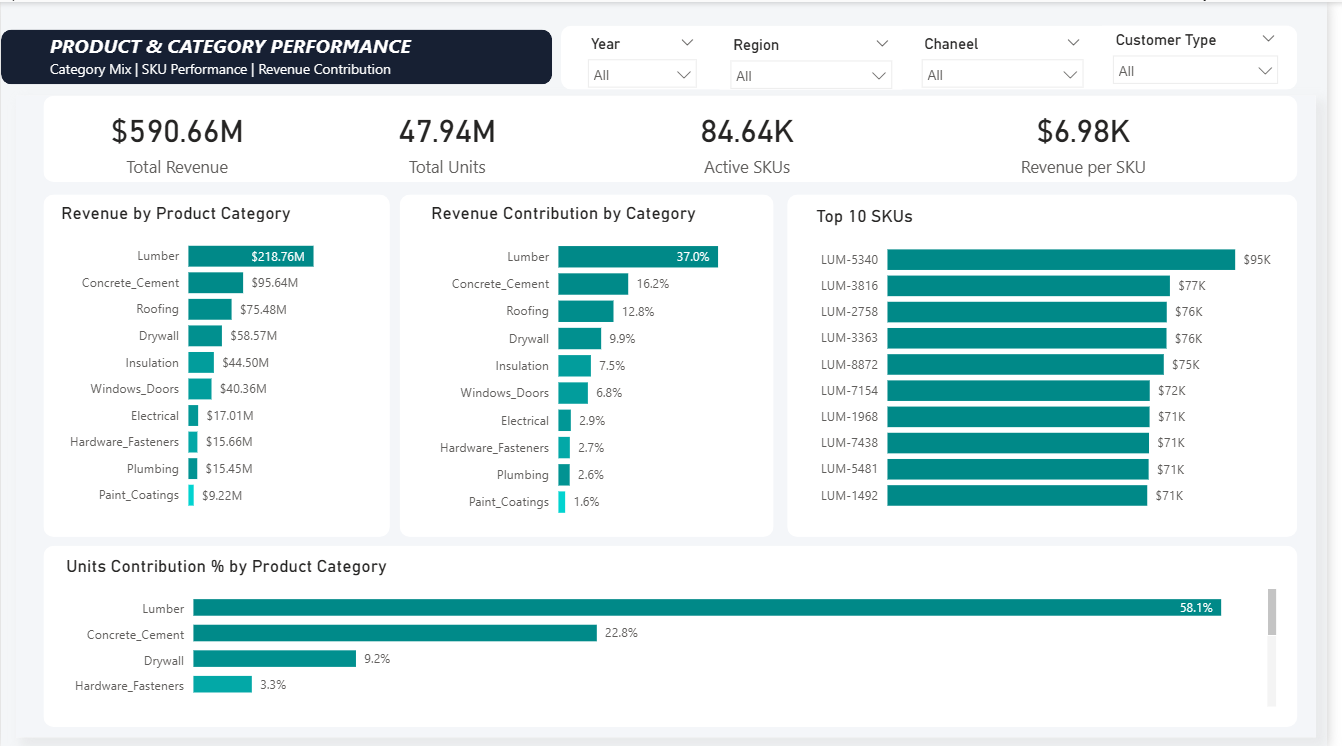

This screenshot's page, from the dashboard's own definition file:
{"tool":"powerbi","page":{"name":"PRODUCT & CATEGORY PERFORMANCE","canvas":[1280,720],"ordinal":2},"visuals":[{"type":"shape","box":[0,26.5,532,53.1],"z":0},{"type":"shape","box":[14.5,90.5,1254.7,618.9],"z":1000},{"type":"shape","box":[41,524.8,1210.1,174.9],"z":2000},{"type":"shape","box":[384.9,185.8,360.7,330.6],"z":3000},{"type":"shape","box":[41,90.5,1210.1,83.2],"z":4000},{"type":"shape","box":[758.9,185.8,492.2,330.6],"z":5000},{"type":"shape","box":[41,185.8,334.2,330.6],"z":6000},{"type":"textbox","box":[42.2,22.9,477.8,60.3],"z":7000},{"type":"barChart","title":"Revenue by Product Category","fields":{"Category":["DimProduct.Product Category"],"Y":["_Measures.Total Revenue"]},"box":[53.1,193,310.1,308.8],"z":8000},{"type":"card","fields":{"Values":["_Measures.Total Revenue"]},"box":[68.8,94.1,202.7,79.6],"z":9000},{"type":"card","fields":{"Values":["_Measures.Active SKUs"]},"box":[618.9,94.1,202.7,79.6],"z":10000},{"type":"card","fields":{"Values":["_Measures.Total Units"]},"box":[329.4,94.1,202.7,79.6],"z":11000},{"type":"card","fields":{"Values":["_Measures.Revenue per SKU"]},"box":[943.4,94.1,202.7,79.6],"z":12000},{"type":"clusteredBarChart","title":"Revenue Contribution by Category","fields":{"Category":["DimProduct.Product Category"],"Y":["_Measures.Revenue Contribution %"]},"box":[410.2,193,322.1,316.1],"z":13000},{"type":"barChart","fields":{"Category":["DimProduct.Product Category"],"Y":["_Measures.Units Contribution %"]},"box":[57.9,534.5,1177.5,150.8],"z":14000},{"type":"barChart","title":"Top 10 SKUs","fields":{"Category":["DimProduct.SKU"],"Y":["_Measures.Total Revenue"]},"box":[781.8,196.6,460.9,305.2],"z":15000},{"type":"shape","box":[540.5,22.9,710.6,61.5],"z":16000},{"type":"slicer","fields":{"Values":["DimDate.Year"]},"box":[556.2,26.5,125.5,56.7],"z":17000},{"type":"slicer","fields":{"Values":["DimRegion.Region"]},"box":[693.7,27.7,176.1,56.7],"z":18000},{"type":"slicer","fields":{"Values":["DimChannel.Chaneel"]},"box":[878.3,26.5,176.1,56.7],"z":19000},{"type":"slicer","fields":{"Values":["DimCustomer.Customer Type"]},"box":[1062.9,22.9,179.8,56.7],"z":20000}]}

Visuals, with their boxes in screenshot pixels (x1, y1, x2, y2), scaled from the page's 1280x720 canvas onto the 1342x746 screenshot:
shape: x1=0, y1=27, x2=558, y2=82
shape: x1=15, y1=94, x2=1331, y2=735
shape: x1=43, y1=544, x2=1312, y2=725
shape: x1=404, y1=193, x2=782, y2=535
shape: x1=43, y1=94, x2=1312, y2=180
shape: x1=796, y1=193, x2=1312, y2=535
shape: x1=43, y1=193, x2=393, y2=535
textbox: x1=44, y1=24, x2=545, y2=86
"Revenue by Product Category" barChart: x1=56, y1=200, x2=381, y2=520
card - _Measures.Total Revenue: x1=72, y1=97, x2=285, y2=180
card - _Measures.Active SKUs: x1=649, y1=97, x2=861, y2=180
card - _Measures.Total Units: x1=345, y1=97, x2=558, y2=180
card - _Measures.Revenue per SKU: x1=989, y1=97, x2=1202, y2=180
"Revenue Contribution by Category" clusteredBarChart: x1=430, y1=200, x2=768, y2=527
barChart - DimProduct.Product Category x _Measures.Units Contribution %: x1=61, y1=554, x2=1295, y2=710
"Top 10 SKUs" barChart: x1=820, y1=204, x2=1303, y2=520
shape: x1=567, y1=24, x2=1312, y2=87
slicer - DimDate.Year: x1=583, y1=27, x2=715, y2=86
slicer - DimRegion.Region: x1=727, y1=29, x2=912, y2=87
slicer - DimChannel.Chaneel: x1=921, y1=27, x2=1105, y2=86
slicer - DimCustomer.Customer Type: x1=1114, y1=24, x2=1303, y2=82
